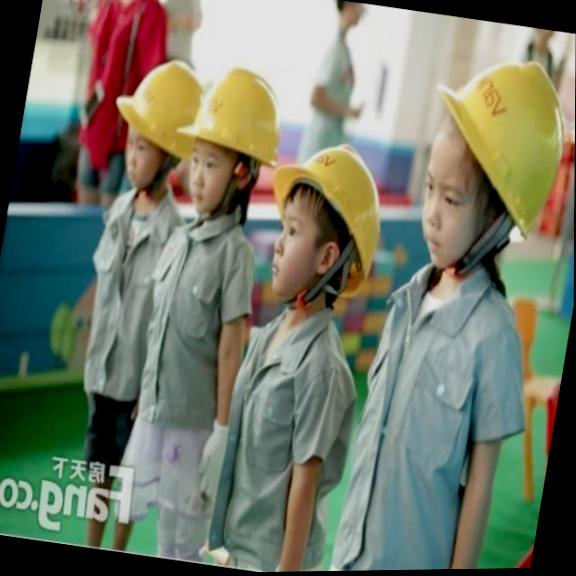no_safety_vest: (328, 255, 549, 571), (201, 292, 371, 573), (127, 204, 264, 438), (66, 176, 188, 415), (68, 0, 169, 163), (300, 26, 368, 158), (152, 0, 209, 69)
